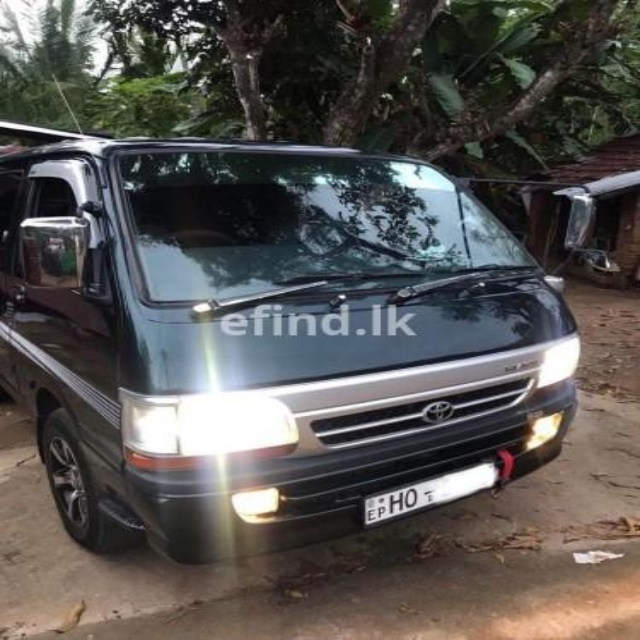Van: (2, 136, 606, 570)
